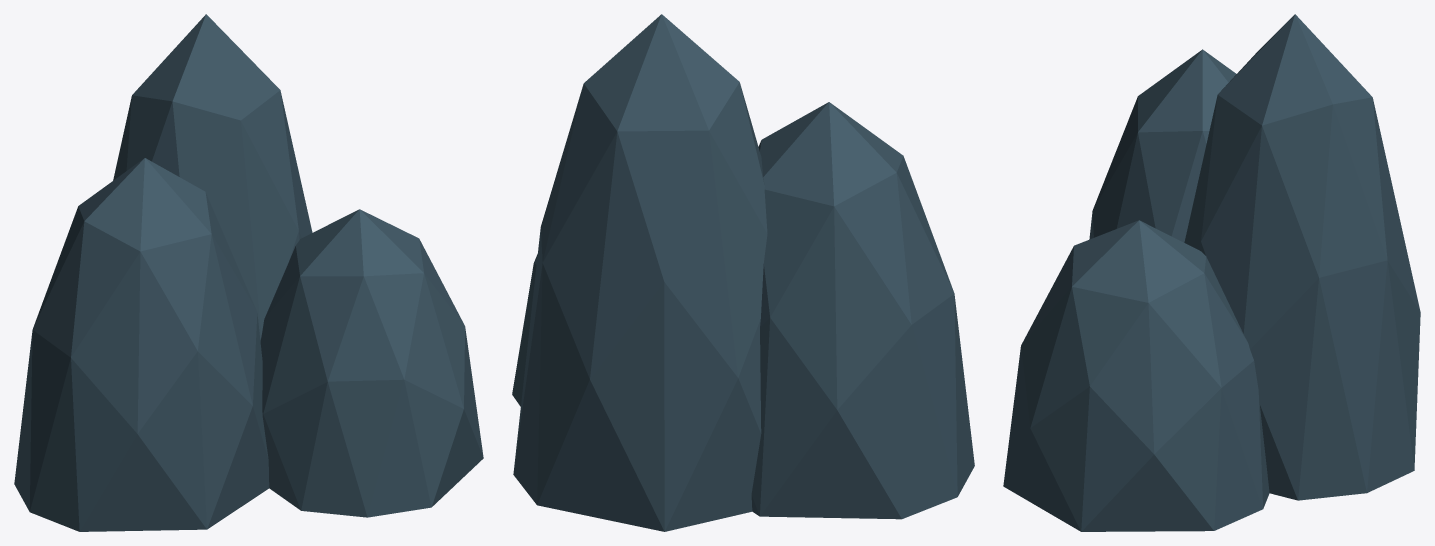
The model's file is RH_Rock02.fbx.
The picture shows the model from 3 angles, left to right: view 1: azimuth 30°, elevation 25°; view 2: azimuth 150°, elevation 25°; view 3: azimuth 270°, elevation 25°; orthographic projection. The views are drawn at different scales.
Parts seen in each view (by area): view 1: RH_Rock02; view 2: RH_Rock02; view 3: RH_Rock02.
Boxes of the visible parts, box(x1,y1,x2,y2) form: RH_Rock02: box(14, 14, 483, 531); RH_Rock02: box(512, 14, 974, 531); RH_Rock02: box(1003, 14, 1420, 531).
Size of the model in its own units: 60.69 by 59.25 by 52.23.
1 material, 1 textured.
